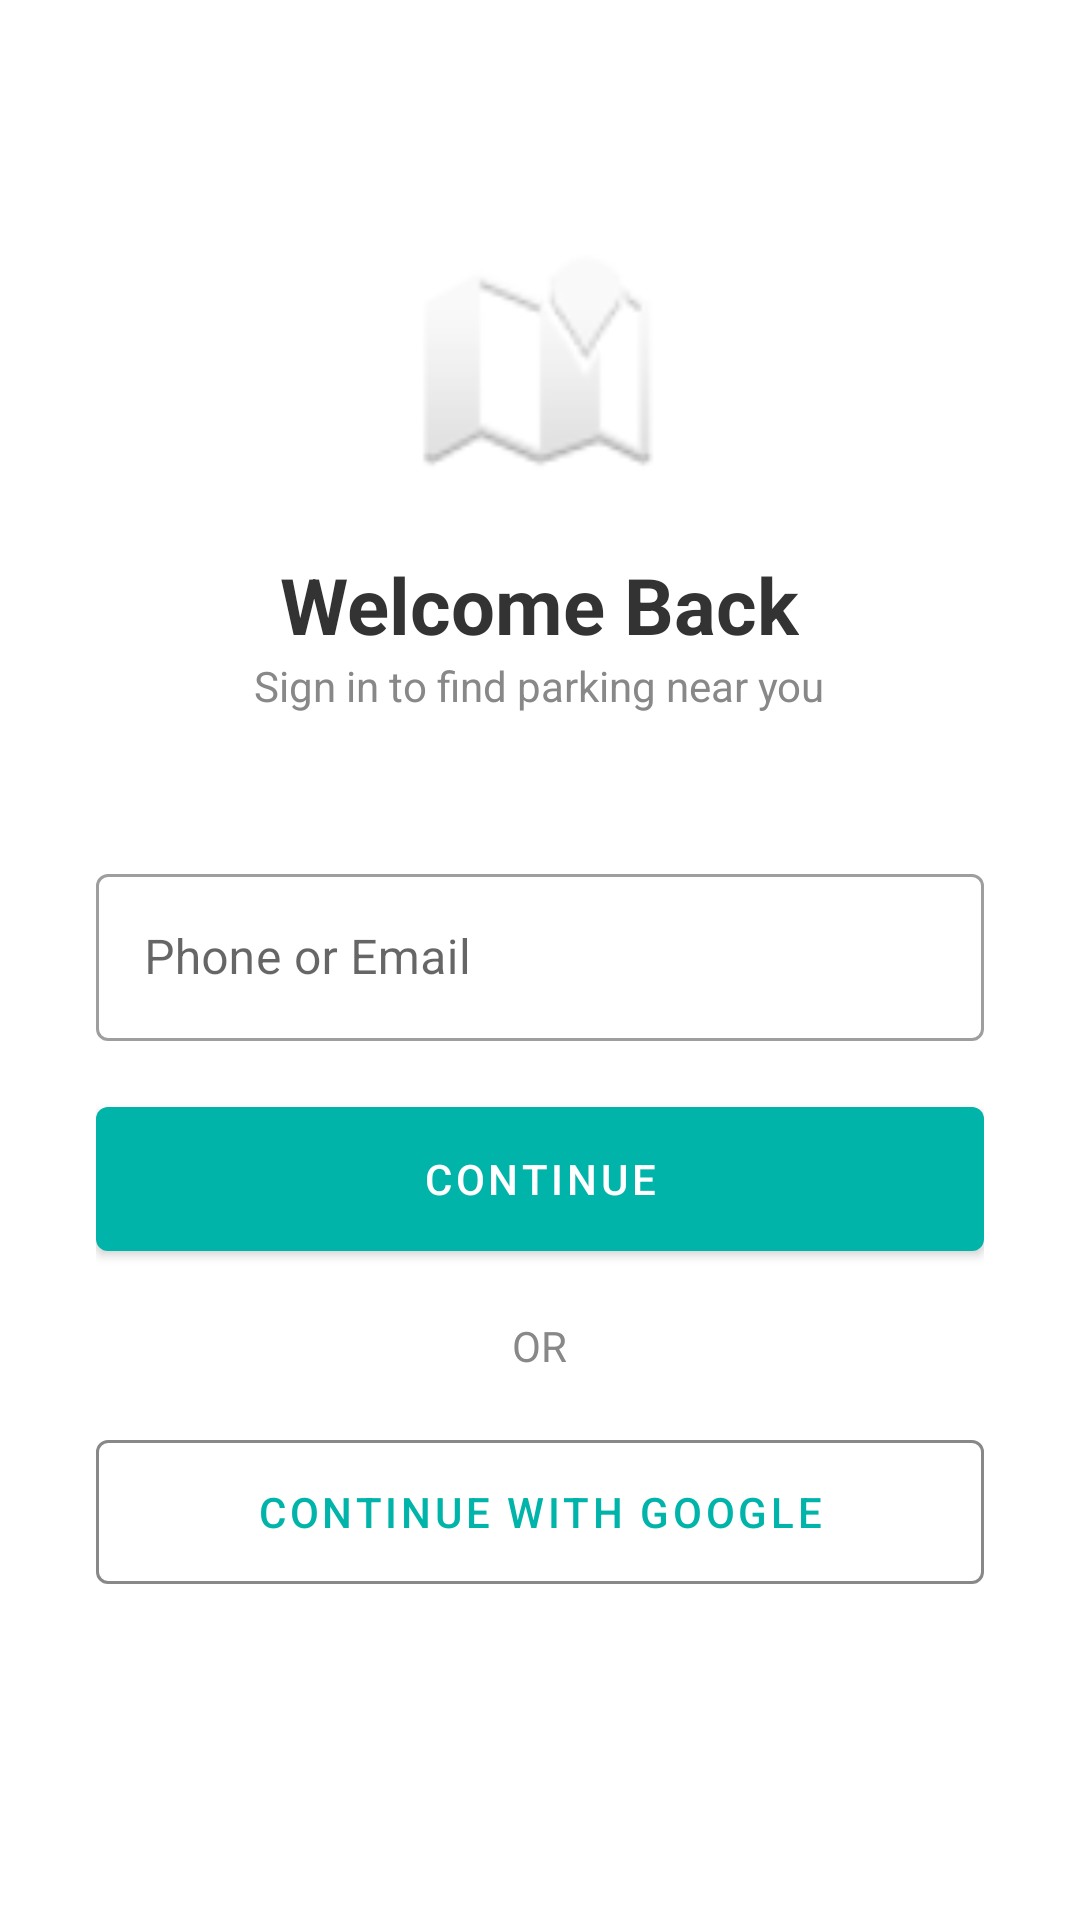

Icons on this 1080*1920 Android screen, each with its box as (x1, y1, x2, y2):
map: (424, 282, 650, 464)
